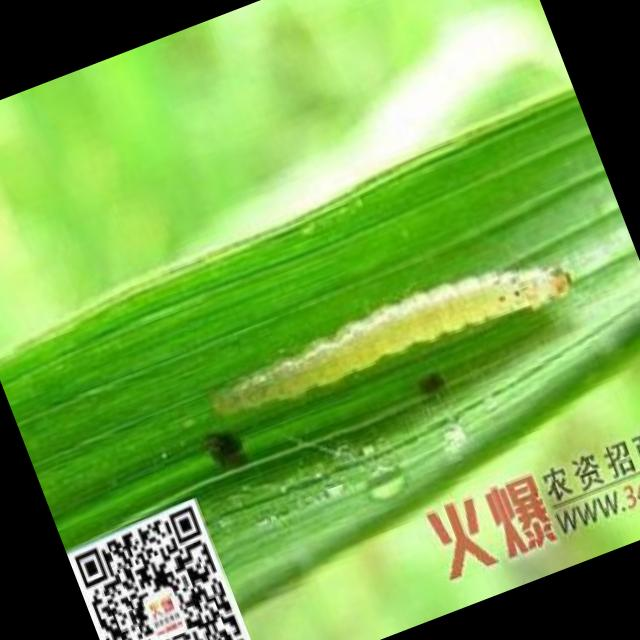leaf-folder: (175, 206, 607, 476)
